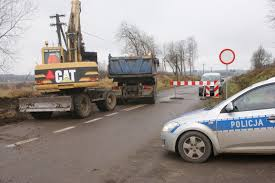no_entry_sign: (219, 48, 235, 64)
